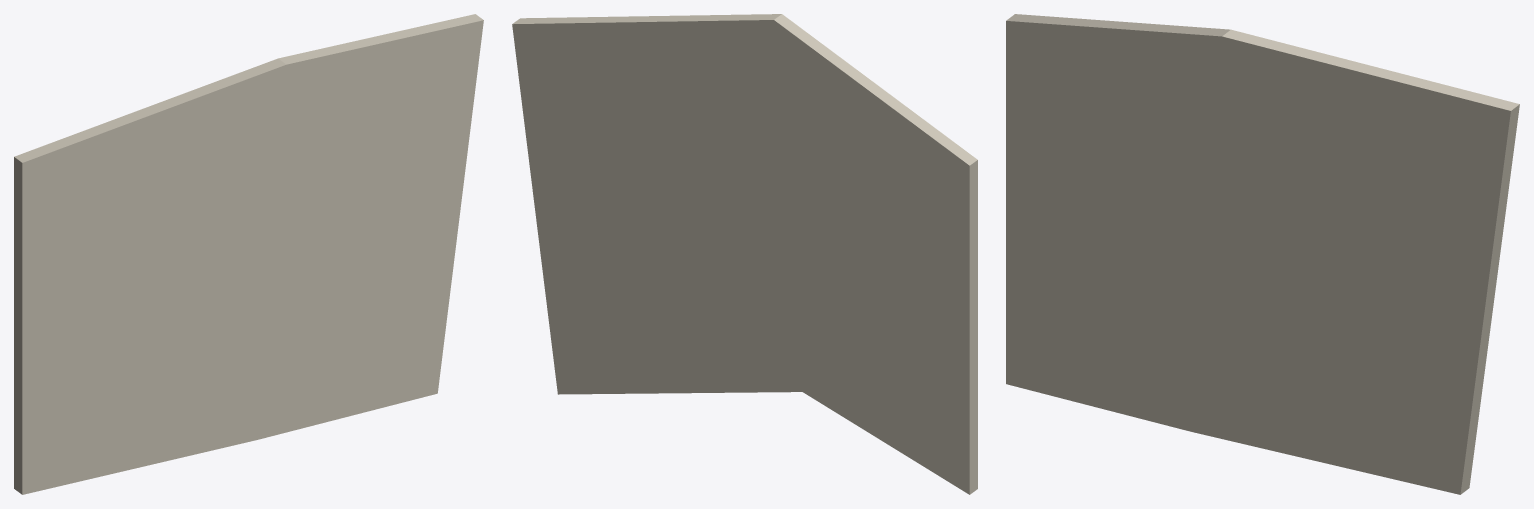
The model's file is fold.glb.
The picture shows the model from 3 angles, left to right: view 1: azimuth 30°, elevation 25°; view 2: azimuth 150°, elevation 25°; view 3: azimuth 330°, elevation 25°; orthographic projection. The views are drawn at different scales.
Visible parts, largest first — view 1: fold; view 2: fold; view 3: fold.
Part boxes in pixels (x1=…): fold: x1=14, y1=14, x2=483, y2=494; fold: x1=512, y1=14, x2=977, y2=494; fold: x1=1006, y1=14, x2=1519, y2=494.
Size of the model in its own units: 0.3601 by 0.2971 by 0.0562.
